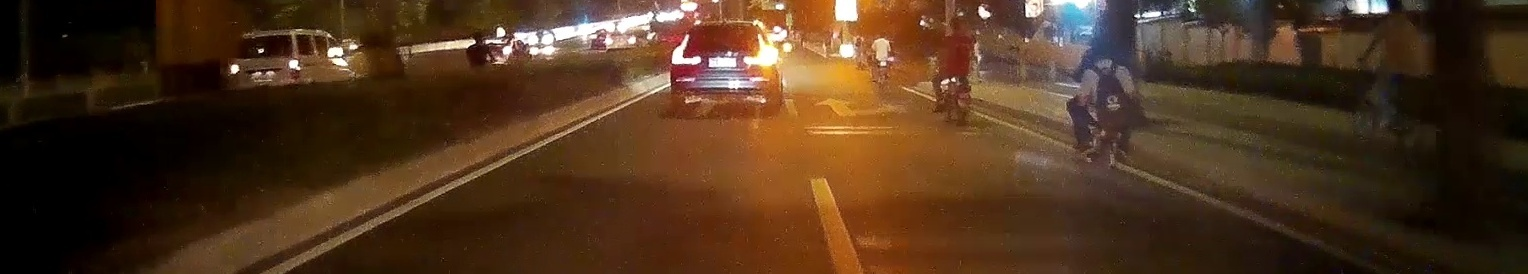L_light: (672, 34, 701, 64), (230, 65, 239, 74)
R_light: (743, 34, 773, 66), (288, 60, 298, 70)
T_light: (716, 28, 731, 31), (256, 37, 270, 40)
night-no: (670, 22, 780, 113), (225, 31, 299, 90)
